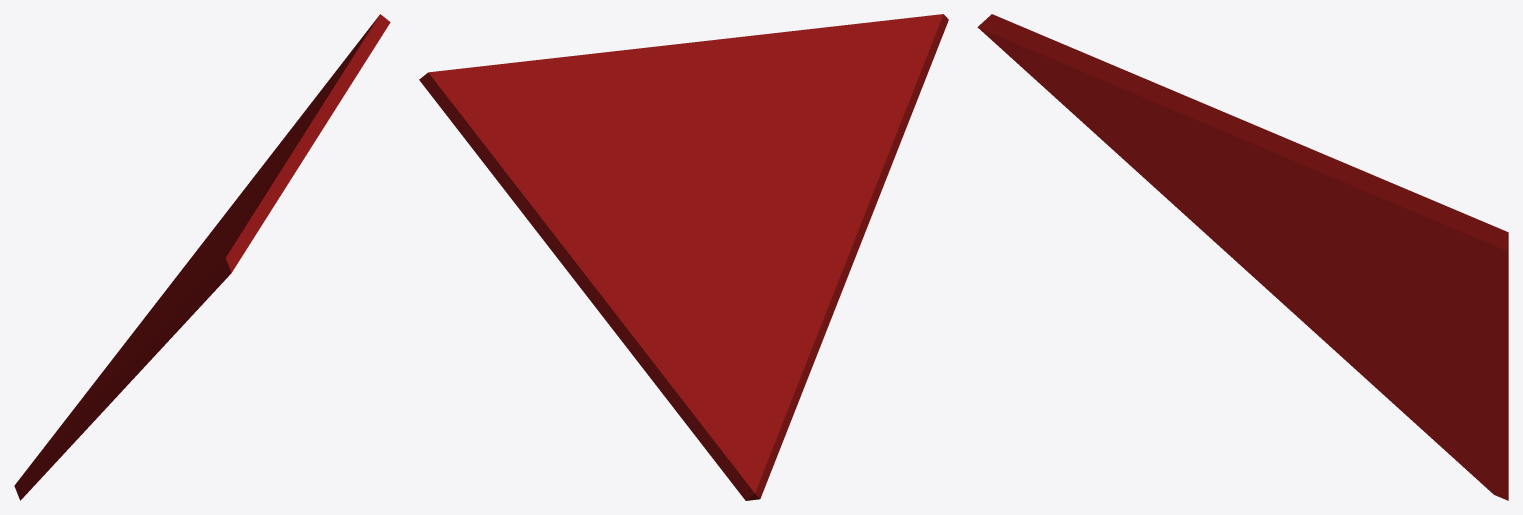
Rendered from MOD_Toitbangle.FBX.
3 views of the same model, side by side, from view 1: azimuth 30°, elevation 25°; view 2: azimuth 150°, elevation 25°; view 3: azimuth 270°, elevation 25° (orthographic). The views are drawn at different scales.
Parts seen in each view (by area): view 1: MOD_toitangle; view 2: MOD_toitangle; view 3: MOD_toitangle.
Boxes of the visible parts, x1,y1,x2,y2 form: MOD_toitangle: (14,14,390,500); MOD_toitangle: (419,14,948,500); MOD_toitangle: (977,14,1508,500).
Size of the model in its own units: 1.03 by 1.03 by 1.03.
